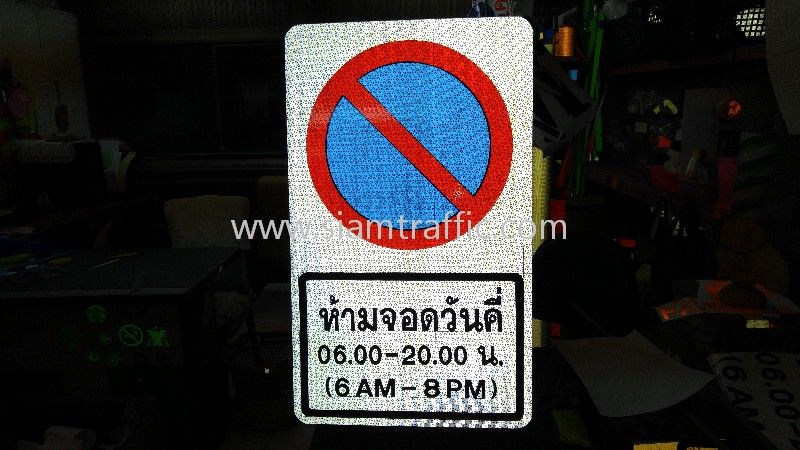text: (226, 213, 570, 244), (312, 287, 509, 340), (318, 369, 502, 405), (313, 337, 505, 371)
